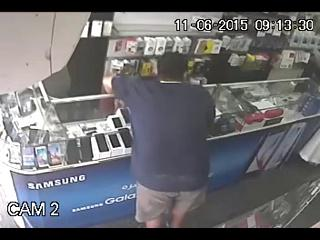shoplifting: (109, 52, 216, 227)
